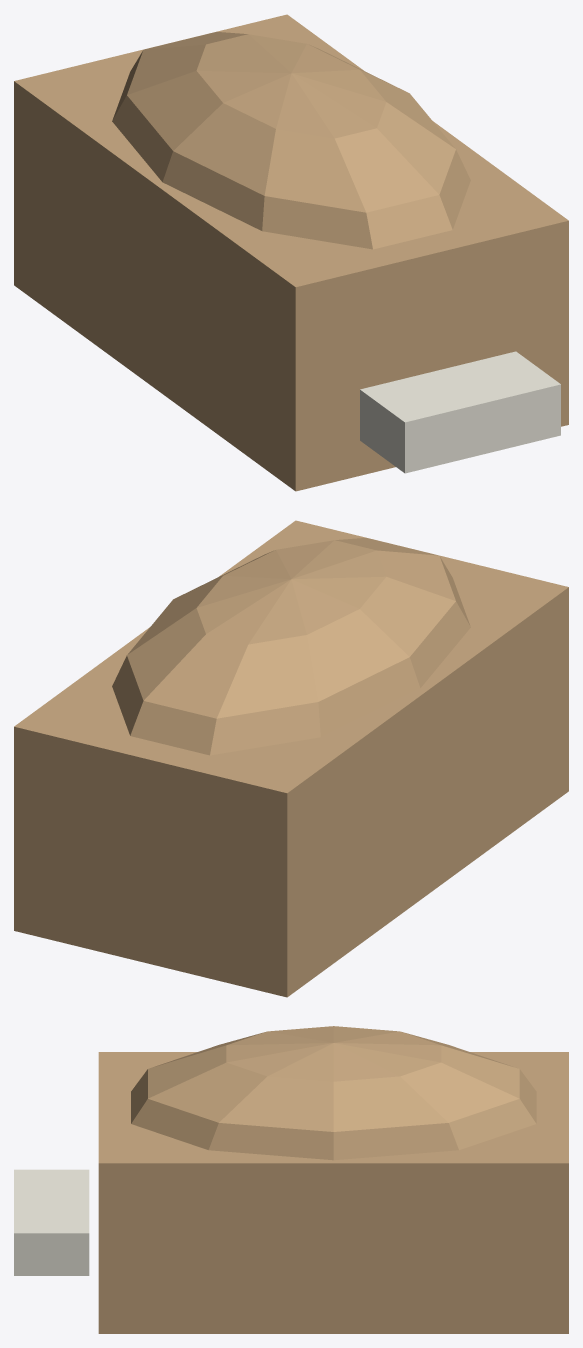
Rendered from supermarket-operations-sliced-bread-bag-8fc5fbb3__26861.glb.
3 renders of one model, top to bottom at view 1: azimuth 30°, elevation 25°; view 2: azimuth 150°, elevation 25°; view 3: azimuth 270°, elevation 25°, orthographic. The views are drawn at different scales.
Parts seen in each view (by area): view 1: sliced-bread-bag; view 2: sliced-bread-bag; view 3: sliced-bread-bag.
Boxes of the visible parts, x1,y1,x2,y2 form: sliced-bread-bag: (14, 14, 568, 491); sliced-bread-bag: (14, 520, 568, 997); sliced-bread-bag: (14, 1026, 568, 1333).
Bounding box in the file's own units: 0.14 × 0.138 × 0.295.
